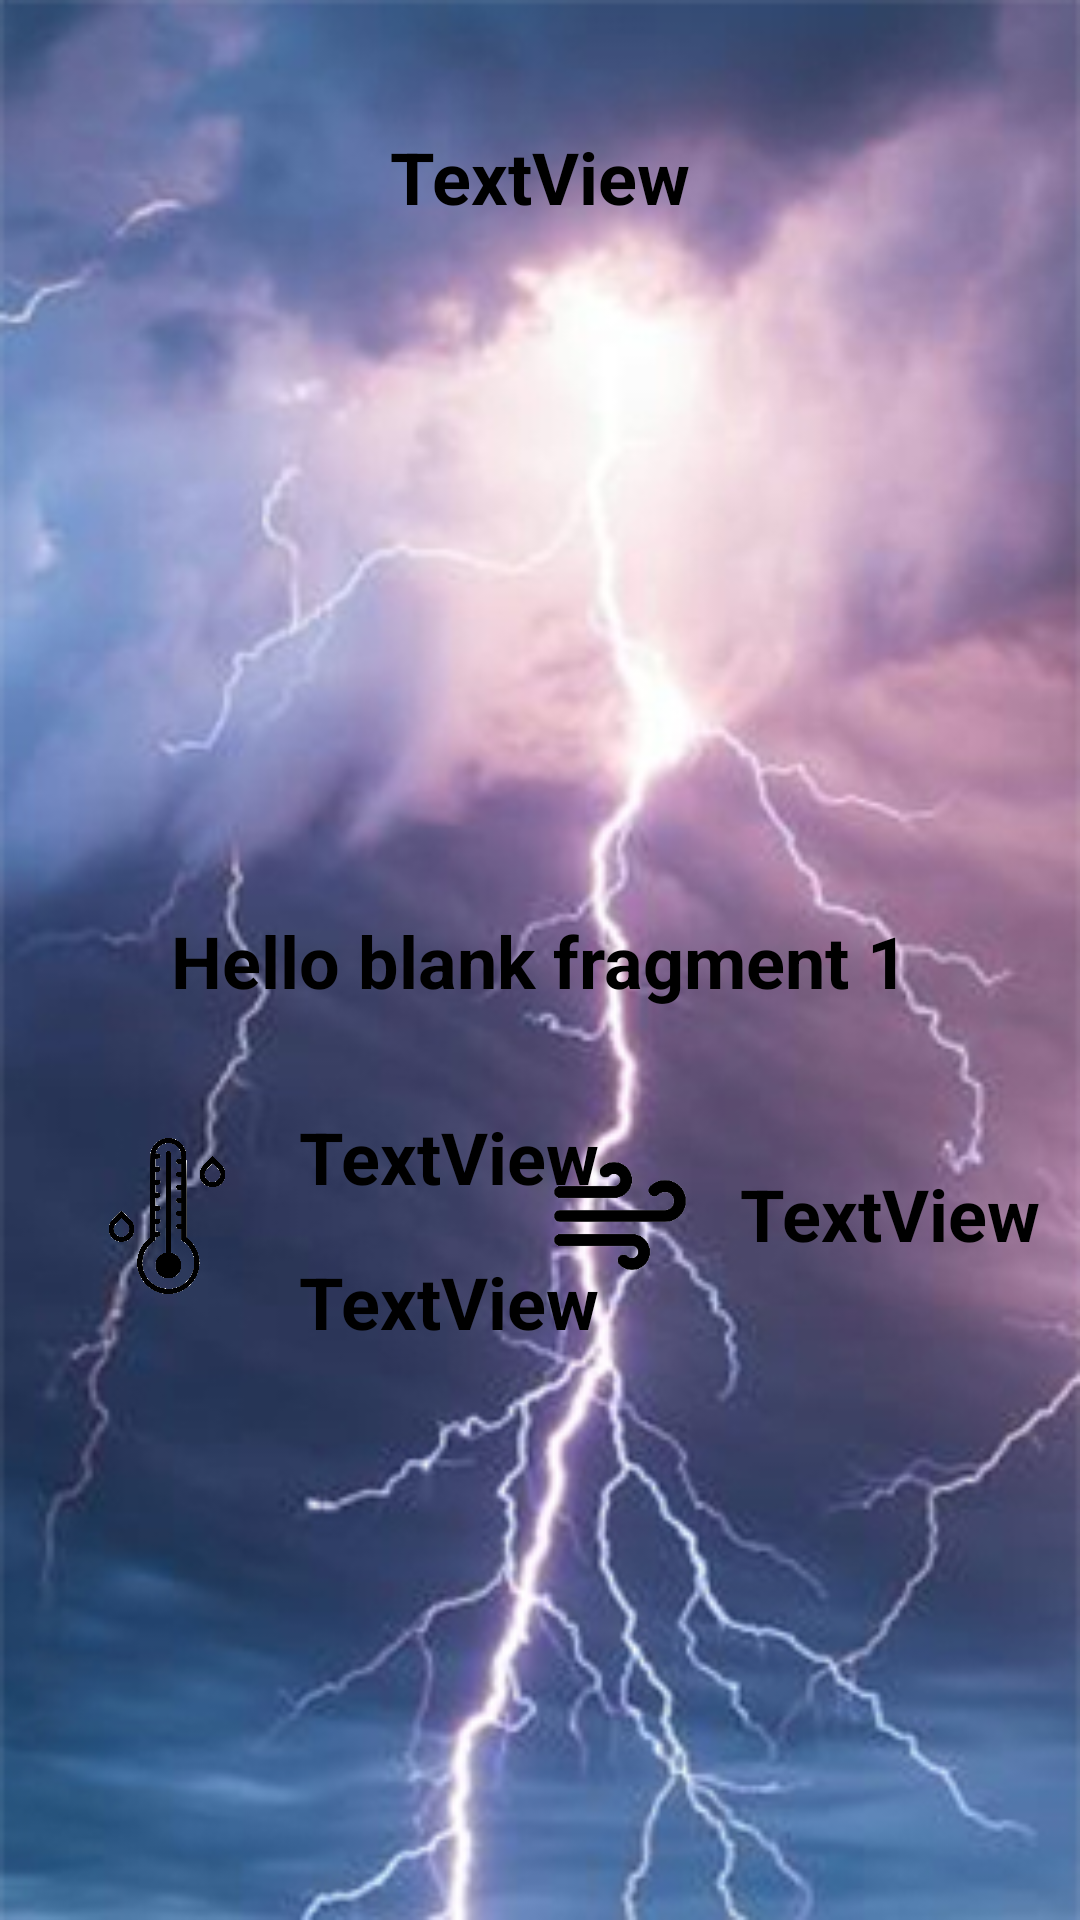

Named icons in this screenshot (1080px×1920px) and their centers, (x=x, y=y):
temperature: (x=167, y=1216)
vent sans fond: (x=620, y=1216)
